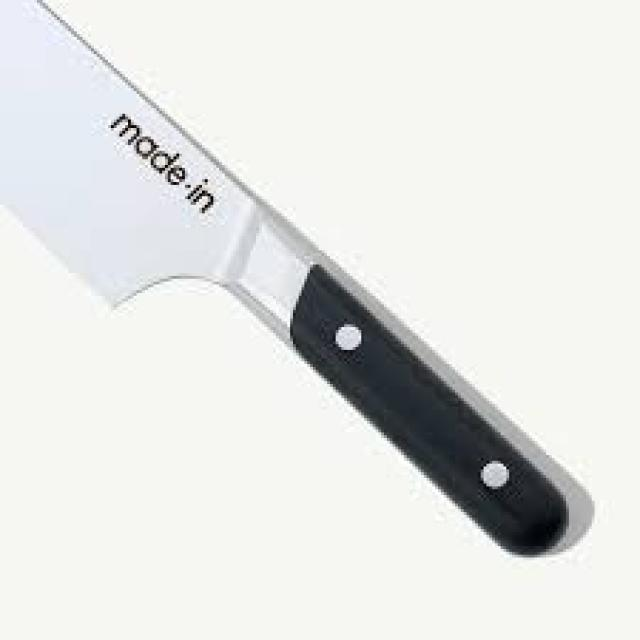Knife: (0, 0, 594, 557)
